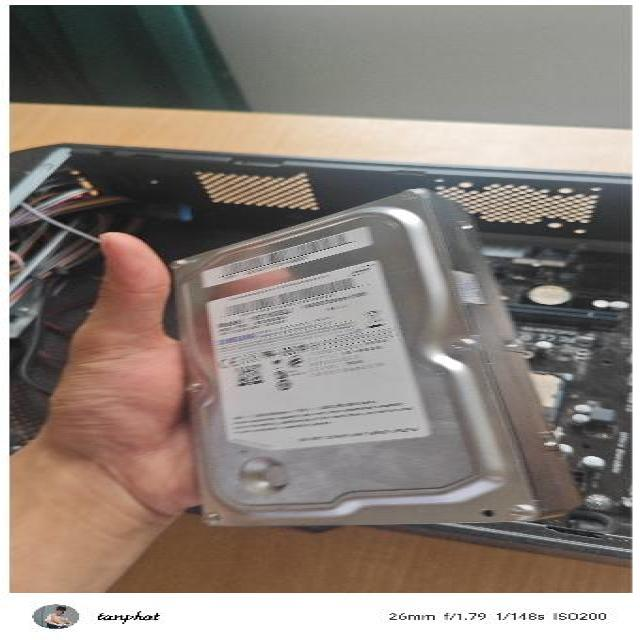DISK: (152, 180, 586, 532)
